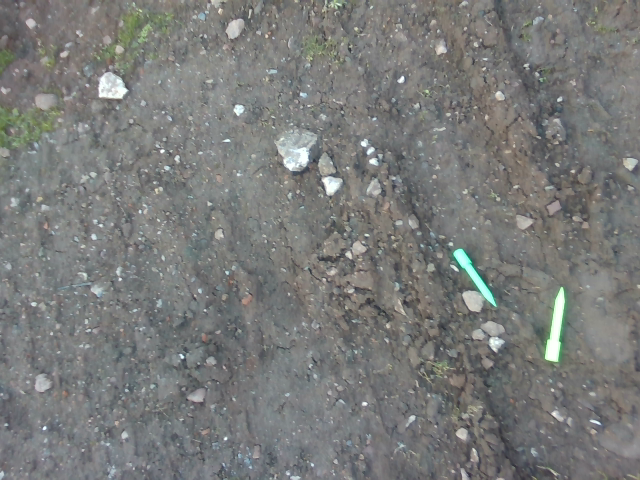Probe: (450, 243, 499, 310), (541, 284, 571, 367)
